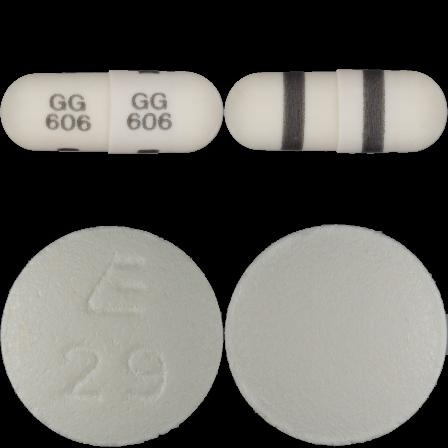21695-839: (0, 0, 224, 224)
